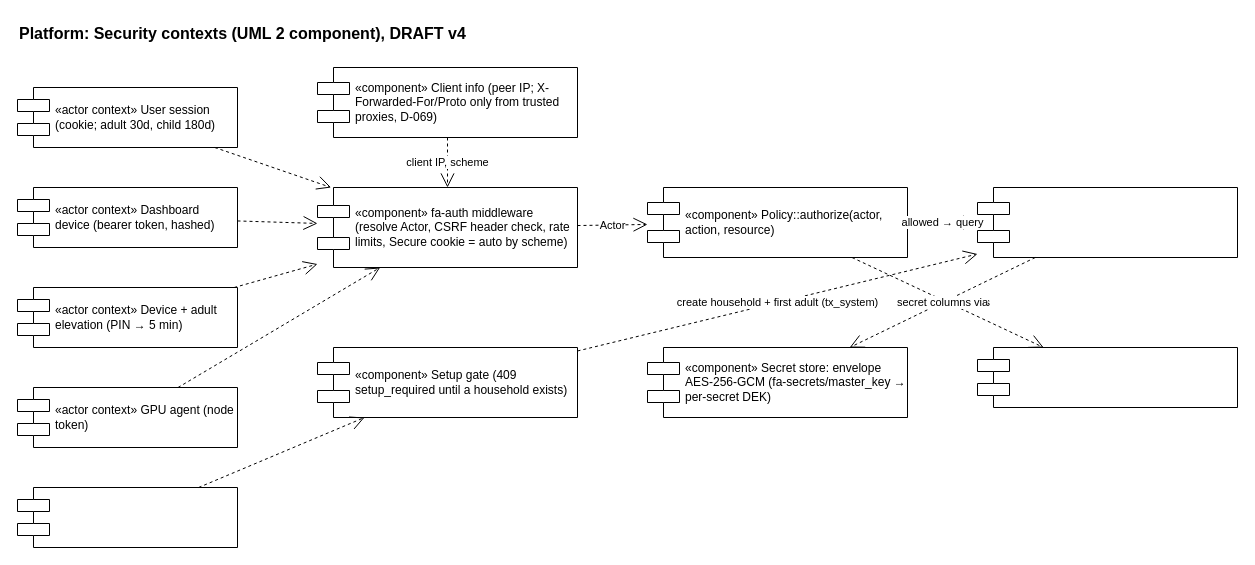
This 1255x565 diagram has some shape labels left out. Here are the shapes that lost their labels. From the top down, the box of each, then its label:
(976, 186, 1238, 258): «component» fa-store: SET app.household_id → Postgres RLS
(976, 346, 1238, 408): «component» AuditEntry (append-only)
(16, 486, 238, 548): «actor context» First visitor (no household yet: /setup only, D-073)
